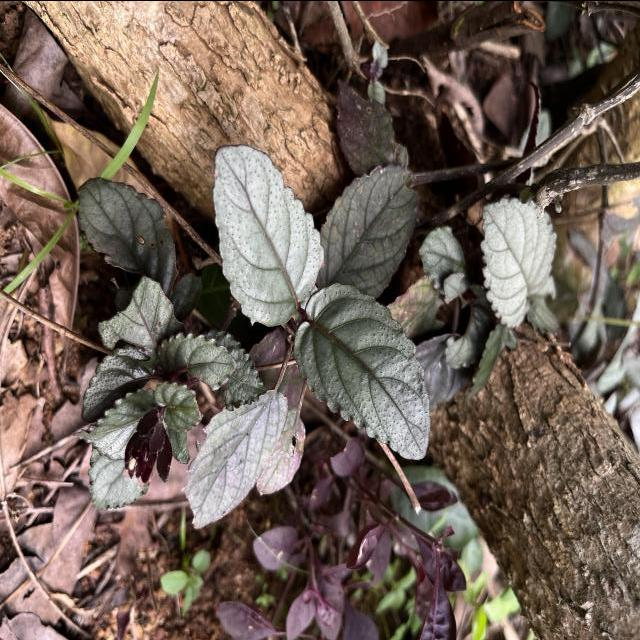Hemigraphis colorata: (292, 280, 434, 462), (210, 140, 328, 329), (180, 382, 292, 532), (318, 161, 428, 300), (478, 192, 560, 330)
